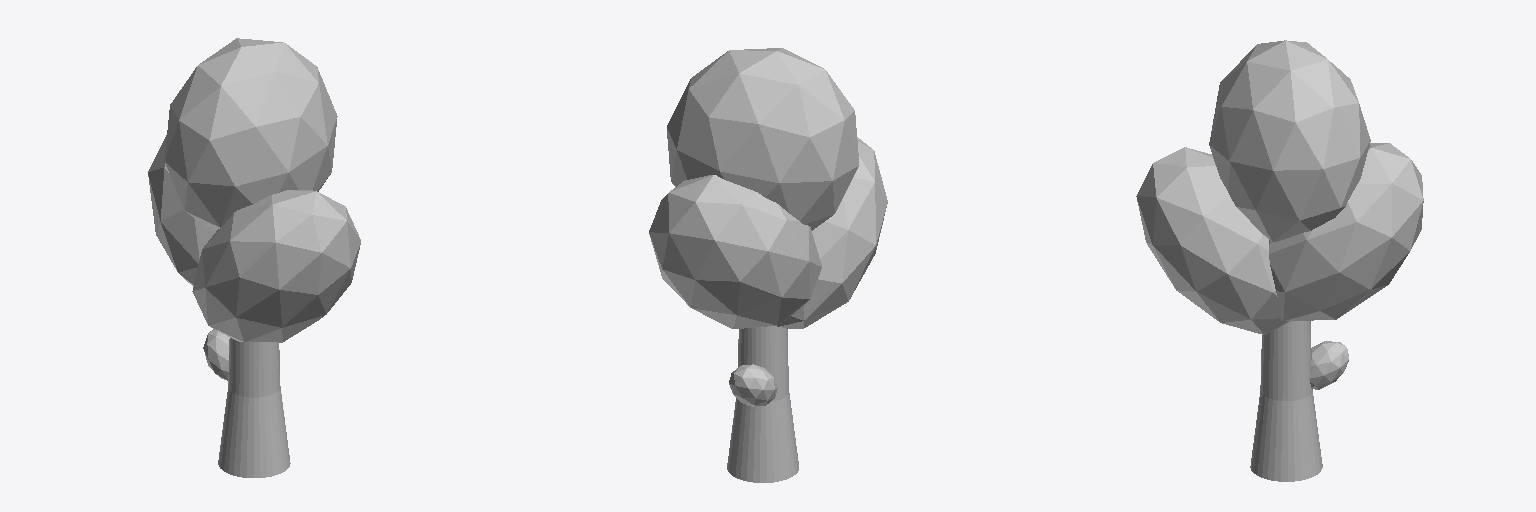
Rendered from drzewo1.obj.
The picture shows the model from 3 angles: view 1: azimuth 30°, elevation 25°; view 2: azimuth 150°, elevation 25°; view 3: azimuth 270°, elevation 25°; orthographic projection.
Parts seen in each view (by area): view 1: drzewo_h_low_Baked; view 2: drzewo_h_low_Baked; view 3: drzewo_h_low_Baked.
Part boxes in pixels (bbox=[...]): drzewo_h_low_Baked: bbox=[148, 38, 360, 477]; drzewo_h_low_Baked: bbox=[649, 48, 887, 482]; drzewo_h_low_Baked: bbox=[1136, 40, 1423, 481].
Size of the model in its own units: 4.69 by 11.78 by 7.31.